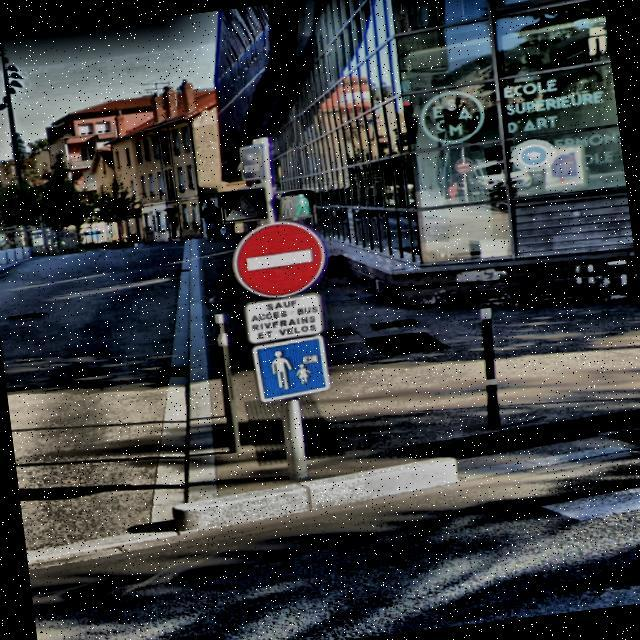green_light: (288, 189, 310, 216)
